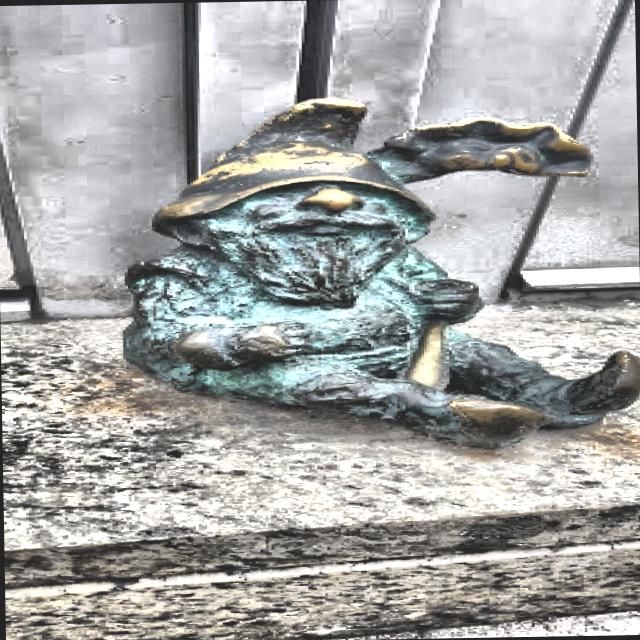Pieroznik: (123, 93, 640, 452)
